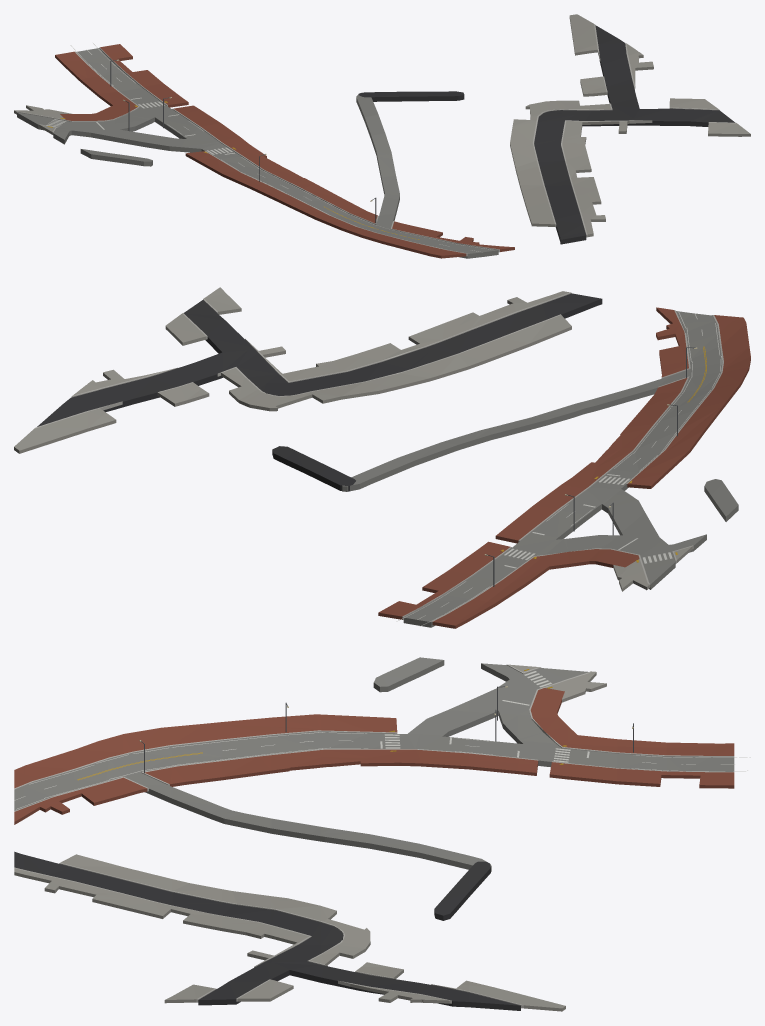
3 views of the same model, one above another, from view 1: azimuth 30°, elevation 25°; view 2: azimuth 150°, elevation 25°; view 3: azimuth 270°, elevation 25° (orthographic). The views are drawn at different scales.
Bounding box in the file's own units: 147 × 14.81 × 149.
